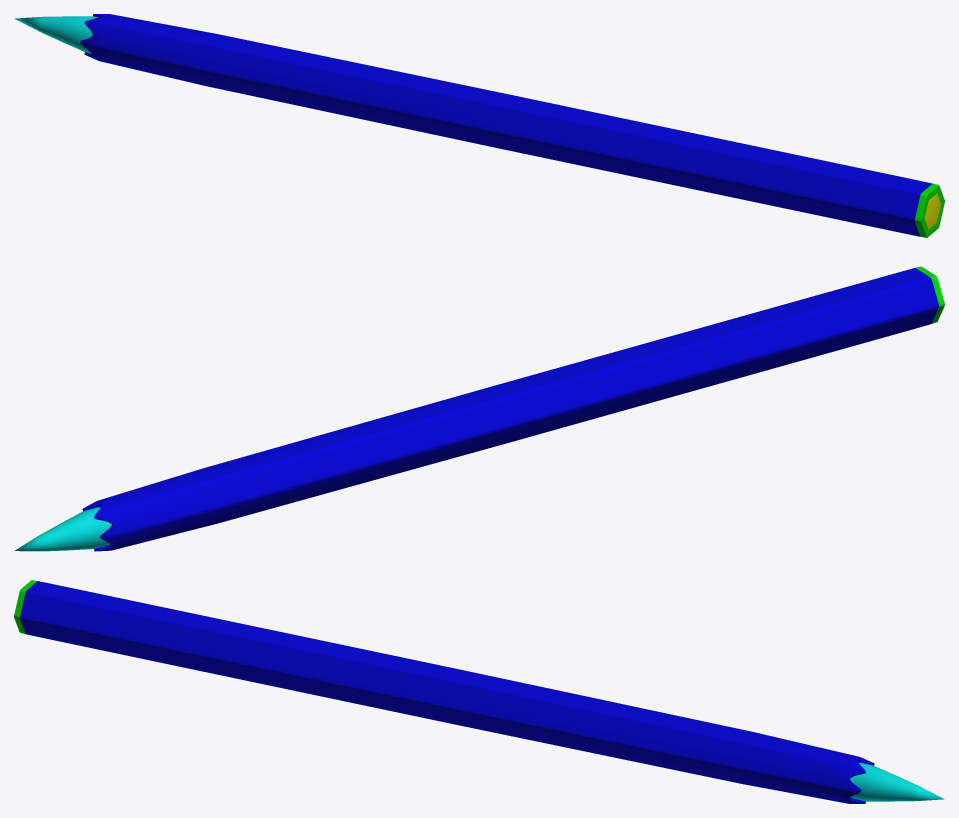
File: Pencil.fbx
The picture shows the model from 3 angles, top to bottom: view 1: azimuth 90°, elevation 25°; view 2: azimuth 150°, elevation 25°; view 3: azimuth 270°, elevation 25°; orthographic projection. The views are drawn at different scales.
Visible parts, largest first — view 1: Pencil; view 2: Pencil; view 3: Pencil.
Part boxes in pixels (bbox=[...]): Pencil: bbox=[14, 14, 944, 237]; Pencil: bbox=[14, 266, 944, 551]; Pencil: bbox=[14, 580, 944, 803].
Size of the model in its own units: 61.43 by 6.19 by 119.
